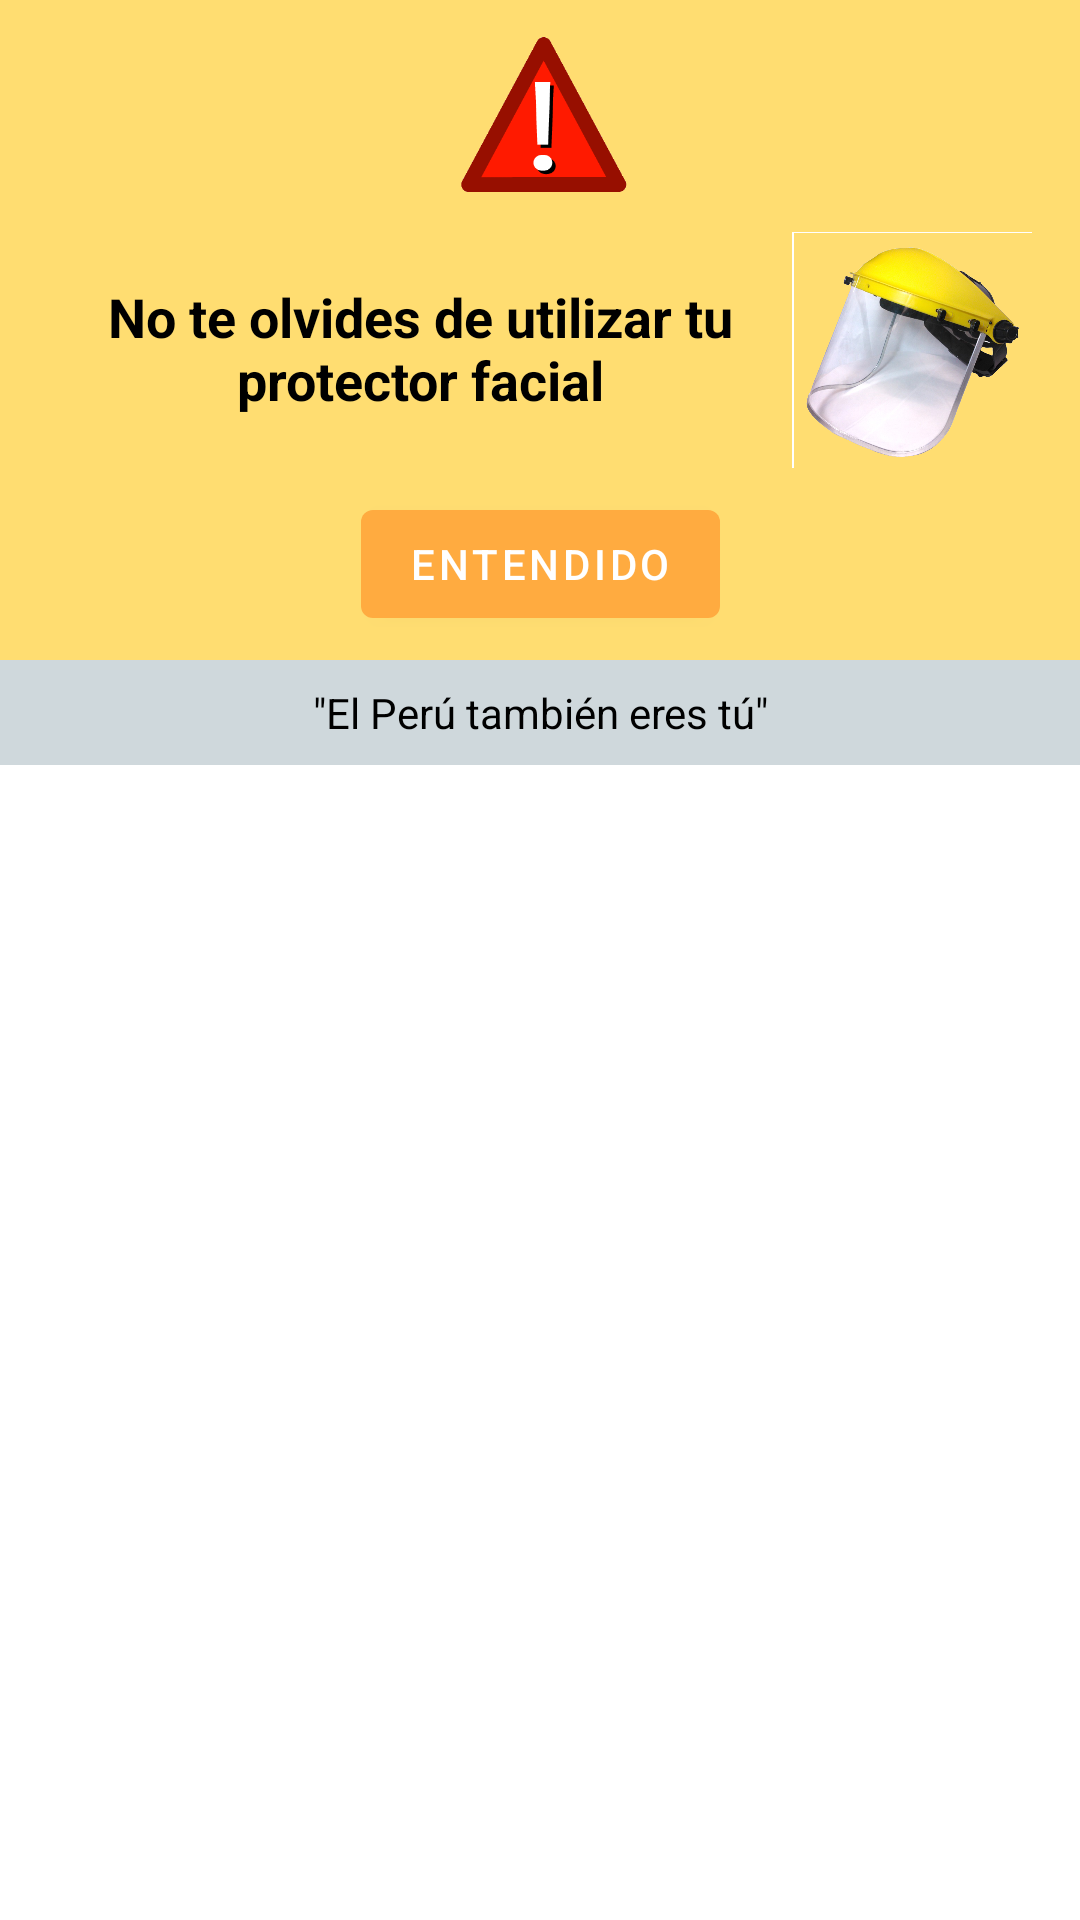

Icons on this 1080 x 1920 Android screen, each with its box as {"x1": x1, "y1": y1, "x2": x2, "y2": y2}:
alert: {"x1": 461, "y1": 37, "x2": 627, "y2": 192}
